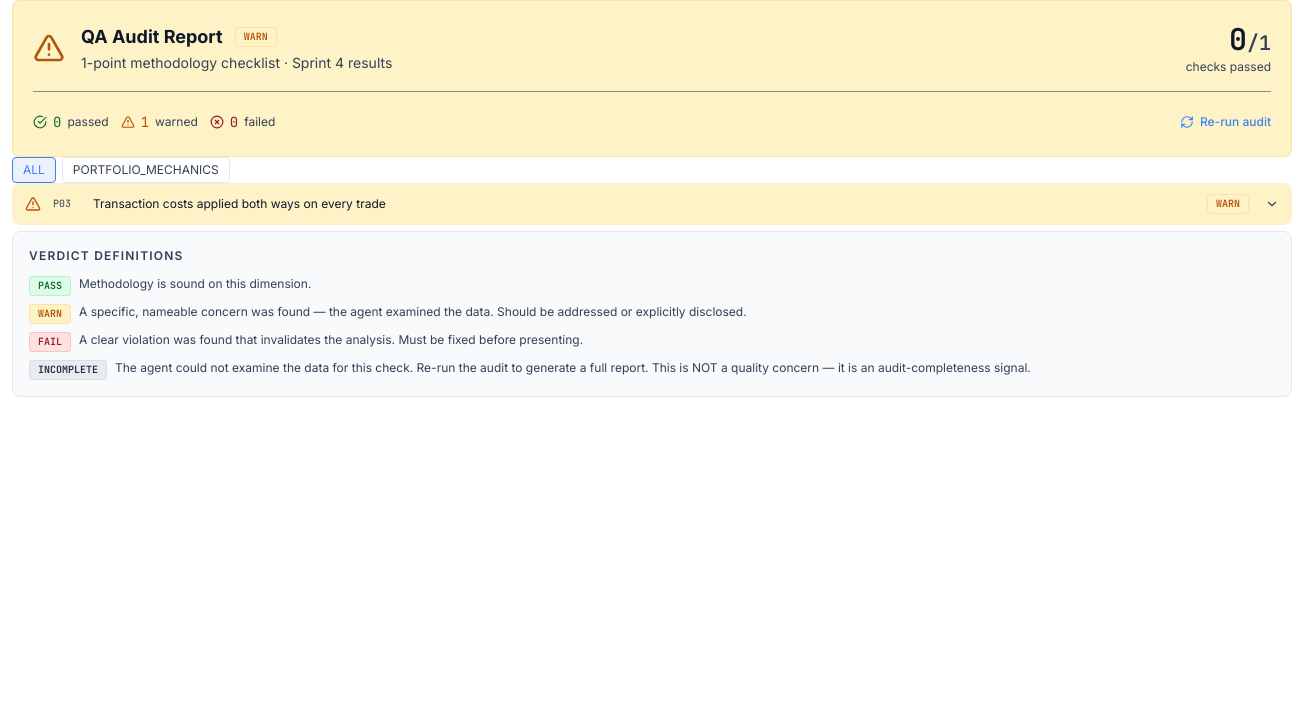
QAAuditPanel — Action Required card variants › renders the Confirmed Intentional badge when an override exists
The image size is (1304, 720).
Step 1. Click the text "Transaction costs applied both ways on every trade" → (239, 204), box [93,196,386,211]
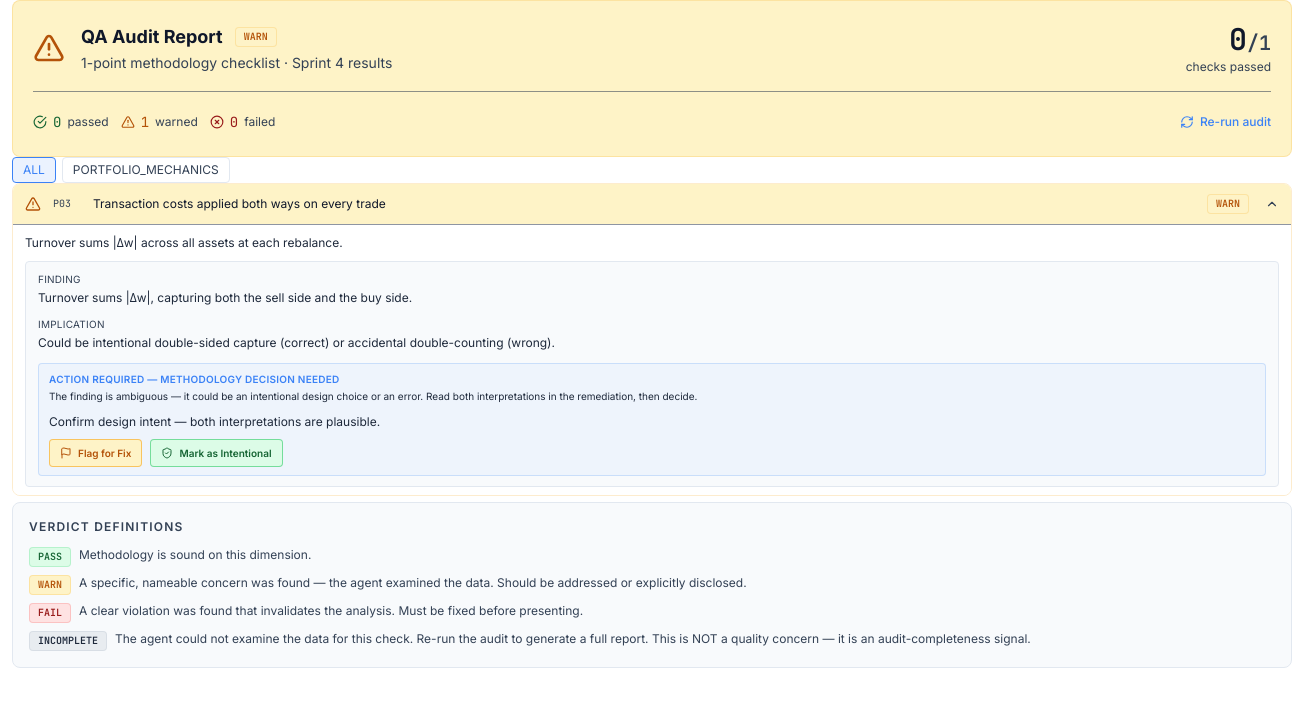
Step 2. Click the text "Transaction costs applied both ways on every trade" → (239, 204), box [93,196,386,211]
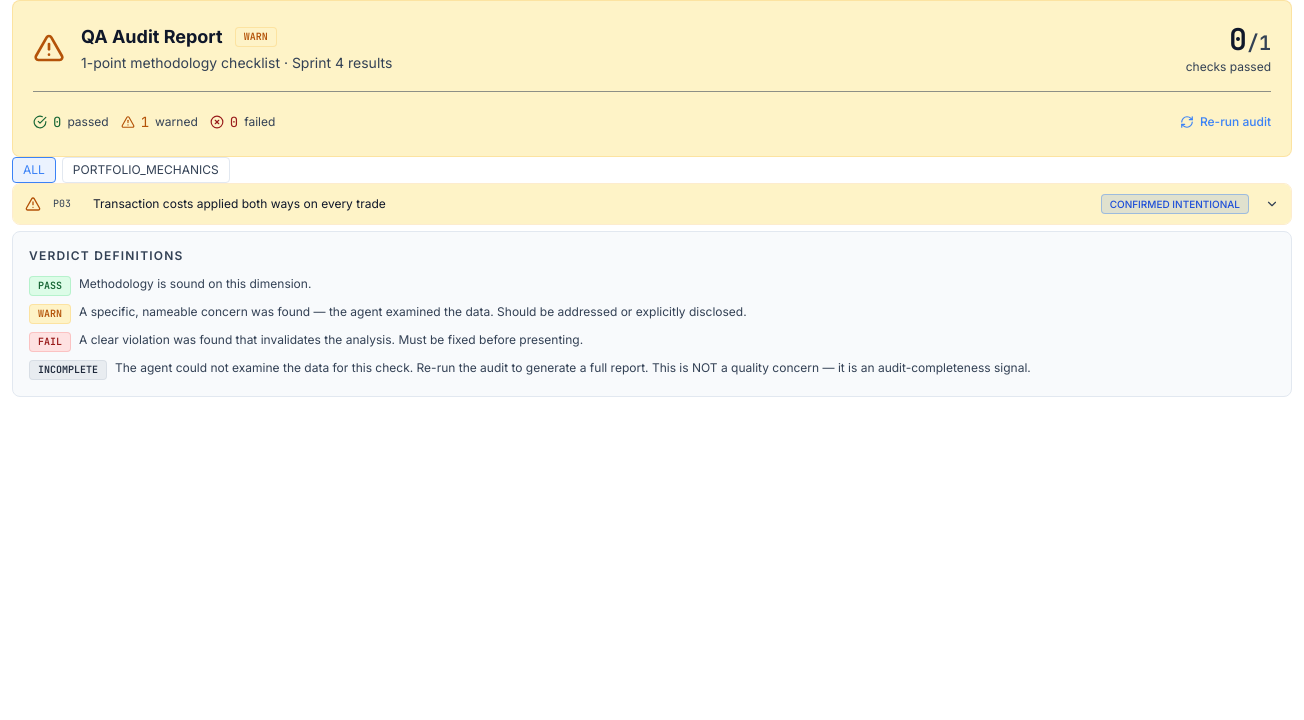
Step 3. Click the text "Transaction costs applied both ways on every trade" → (239, 204), box [93,196,386,211]
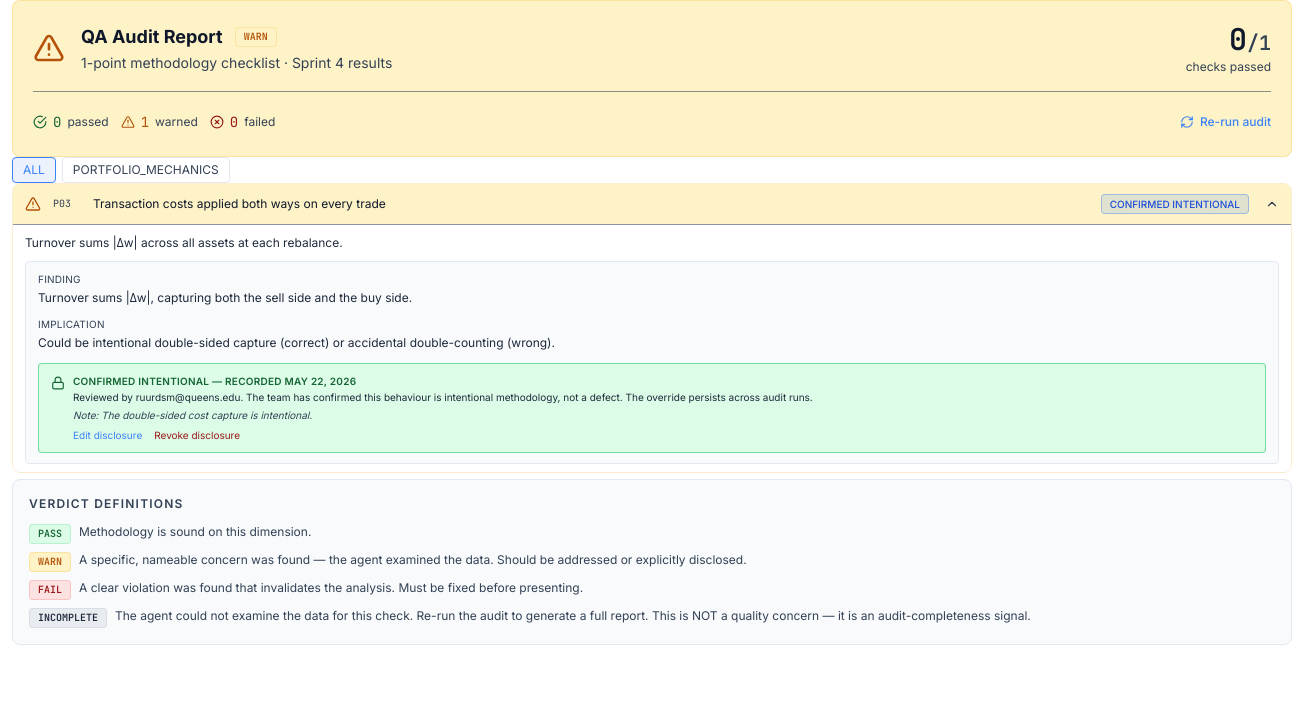
Expected: the text "ruurdsm@queens.edu" is shown, [136,390,240,402]
Expected: the text "Note: The double-sided cost capture is intentional." is shown, [73,408,312,420]
